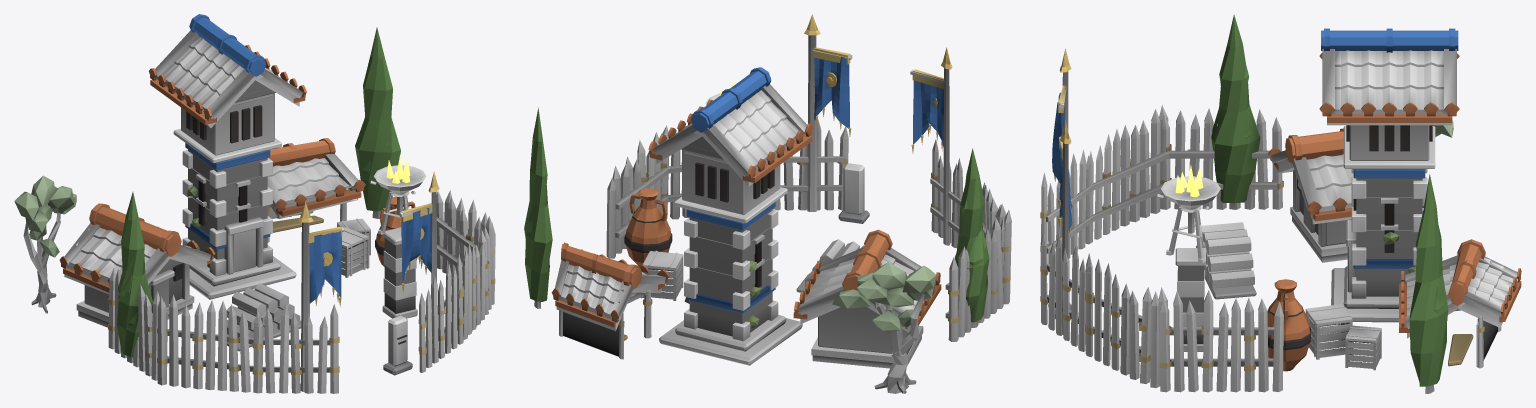
The model's file is watchtower-l2.glb.
The picture shows the model from 3 angles, left to right: view 1: azimuth 30°, elevation 25°; view 2: azimuth 150°, elevation 25°; view 3: azimuth 270°, elevation 25°; orthographic projection. The views are drawn at different scales.
Visible parts, largest first — view 1: watchtower-l2; view 2: watchtower-l2; view 3: watchtower-l2.
Boxes of the visible parts, left/top/right/bottom form: watchtower-l2: left=14, top=14, right=495, bottom=393; watchtower-l2: left=524, top=14, right=1011, bottom=393; watchtower-l2: left=1040, top=14, right=1521, bottom=393.
Bounding box in the file's own units: 1.58 × 0.9391 × 1.5.
